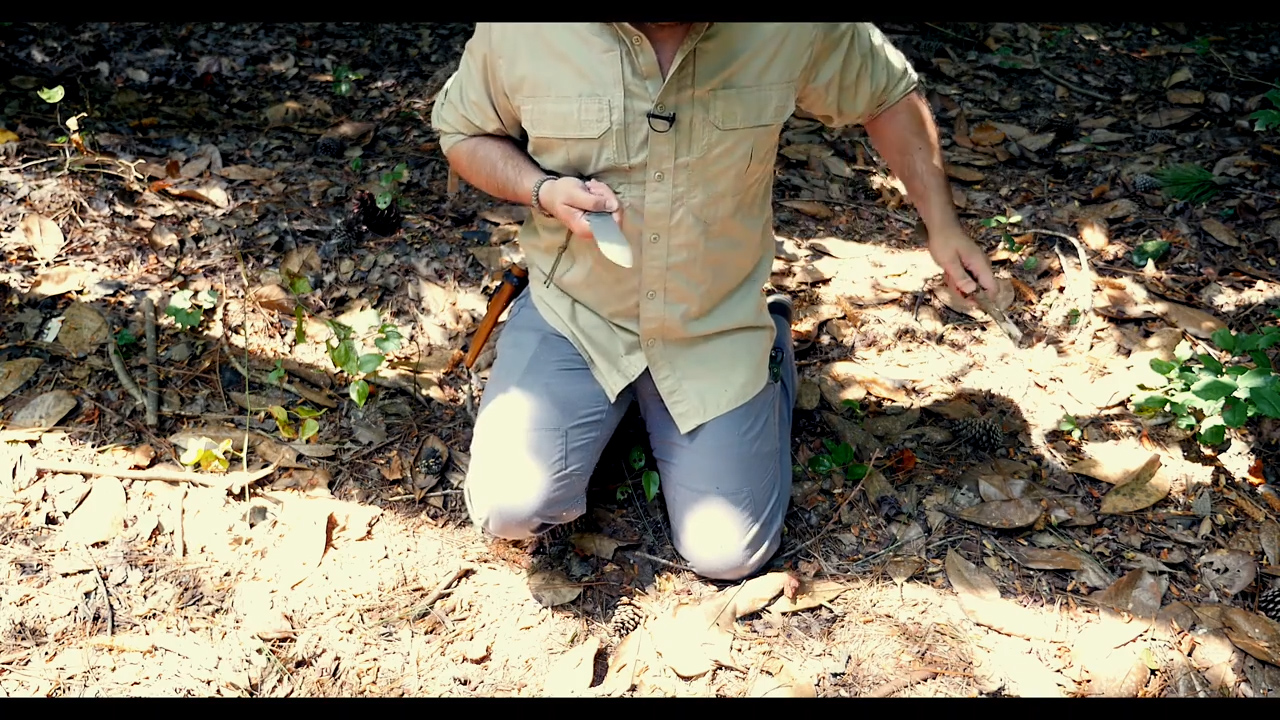knife: (555, 169, 638, 277)
